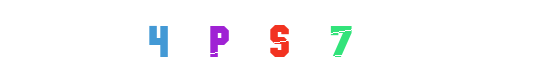4: (177, 0, 257, 80)
7: (239, 0, 319, 80)
P: (200, 0, 280, 80)
S: (230, 0, 310, 80)
